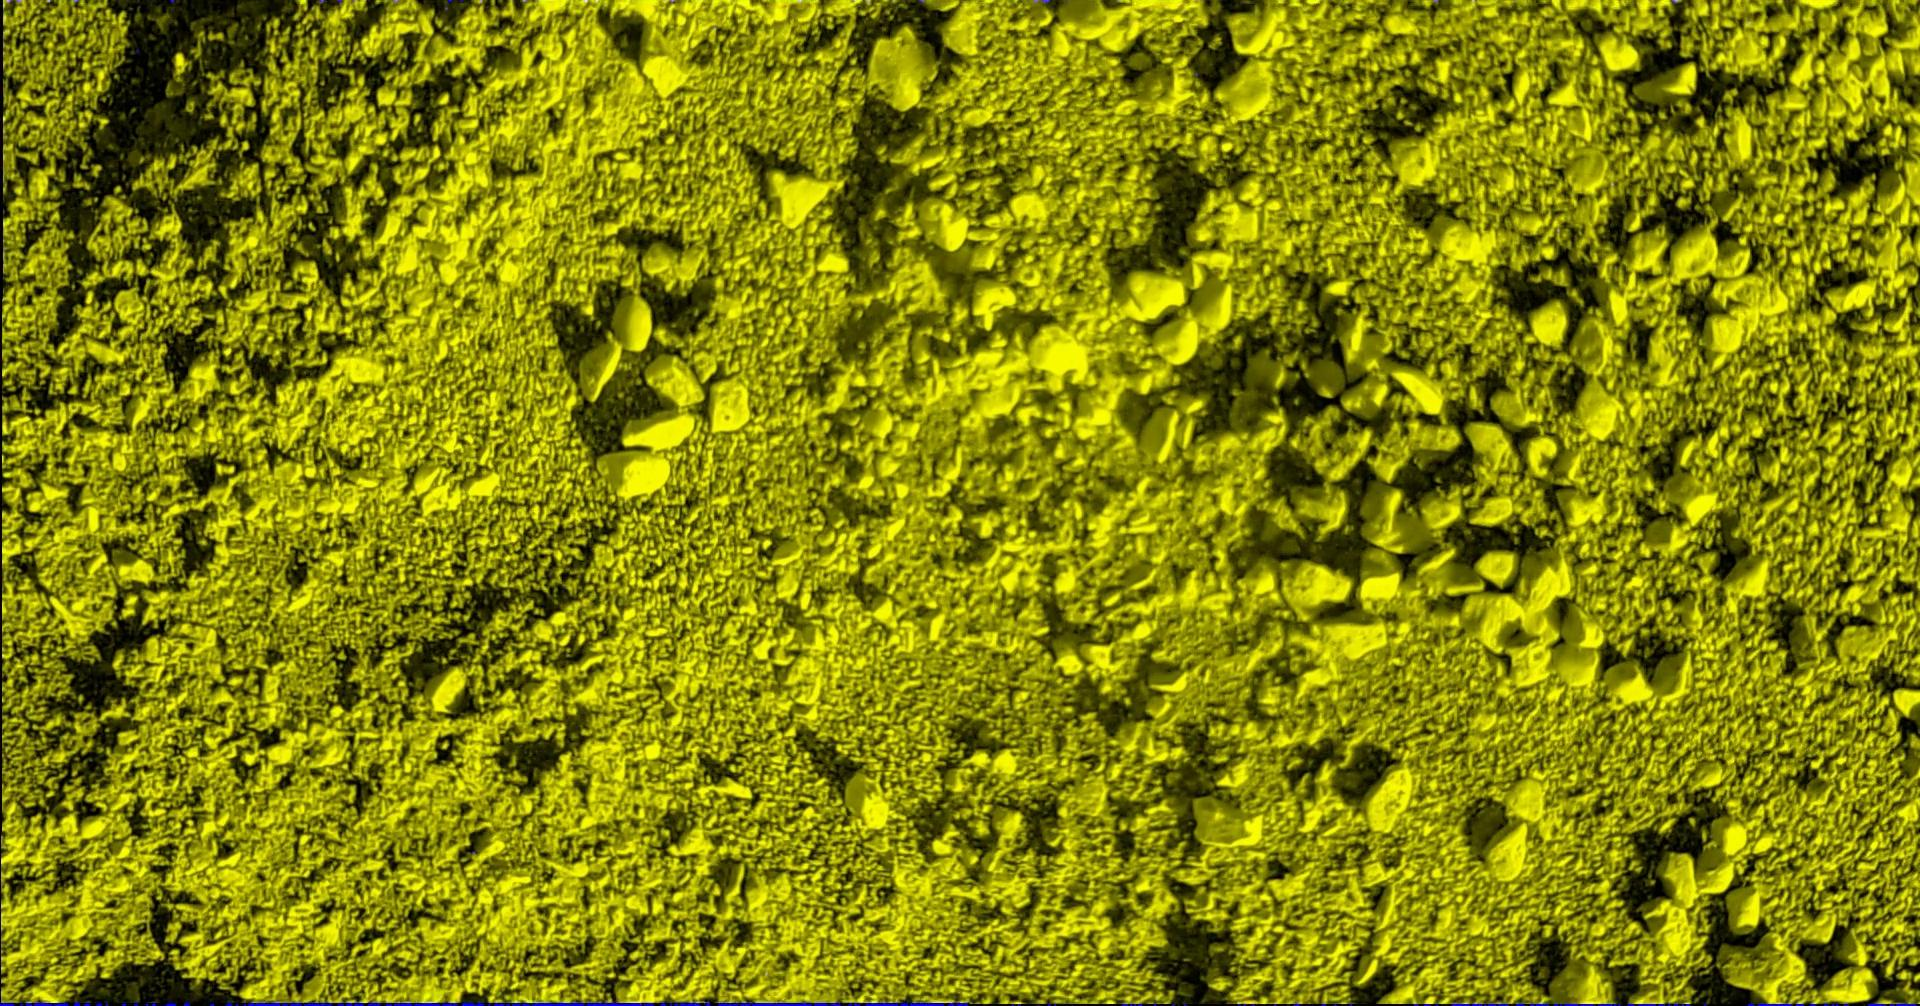ant: (848, 1000, 977, 1005), (717, 1000, 842, 1005), (1, 1000, 110, 1005), (1516, 1002, 1622, 1005), (1749, 1002, 1818, 1005), (1628, 1002, 1691, 1005), (1451, 1002, 1510, 1005), (1868, 1002, 1917, 1005)
